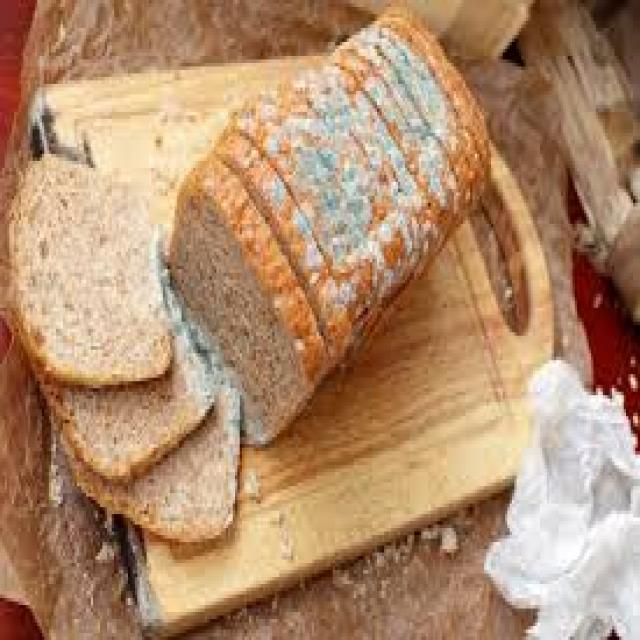Wet Waste: (165, 30, 539, 438)
